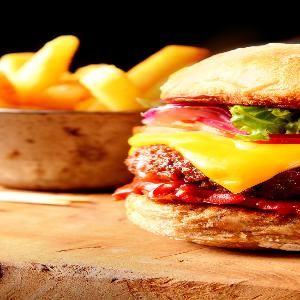cheeseburger_475cal: (131, 34, 300, 258)
